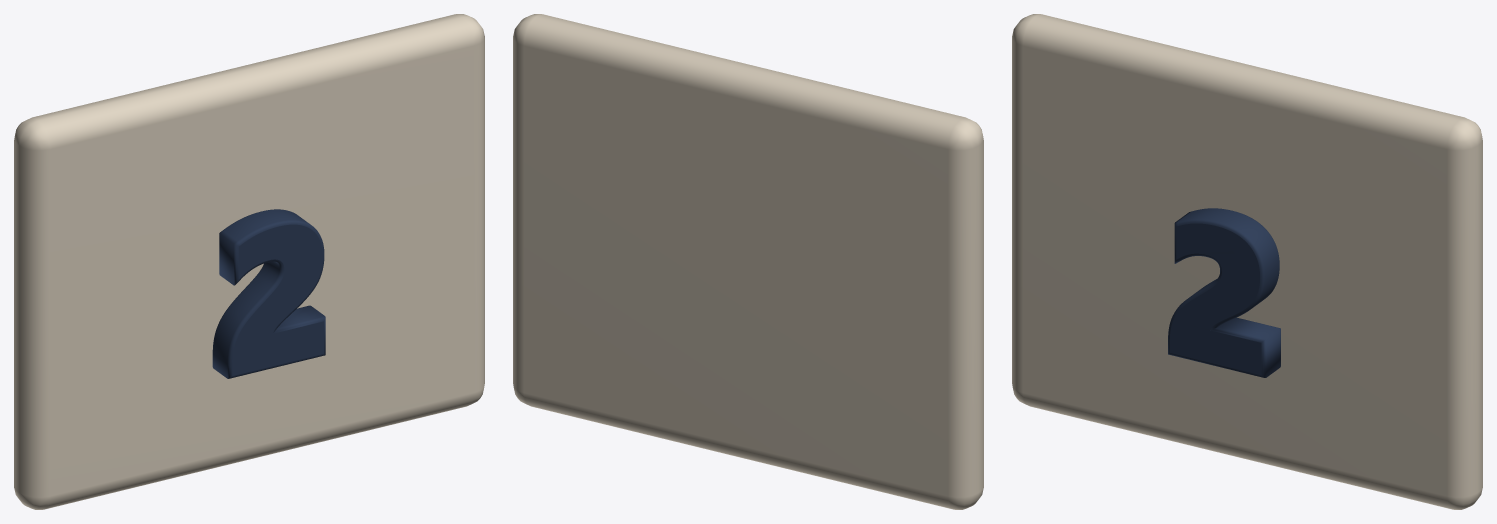
The model's file is BufferTag2.fbx.
3 views of the same model, side by side, from view 1: azimuth 30°, elevation 25°; view 2: azimuth 150°, elevation 25°; view 3: azimuth 330°, elevation 25° (orthographic).
Parts seen in each view (by area): view 1: BufferTag2 mesh; view 2: BufferTag2 mesh; view 3: BufferTag2 mesh.
Part boxes in pixels (x1=…): BufferTag2 mesh: x1=14, y1=14, x2=484, y2=509; BufferTag2 mesh: x1=513, y1=14, x2=983, y2=509; BufferTag2 mesh: x1=1012, y1=14, x2=1482, y2=509.
Bounding box in the file's own units: 0.15 × 0.12 × 0.024.
